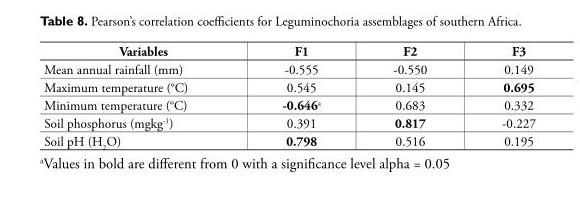table: (43, 42, 535, 151)
table column: (43, 42, 234, 151), (234, 42, 356, 151), (356, 42, 463, 151), (463, 42, 535, 151)
table column header: (43, 42, 535, 59)
table row: (43, 131, 535, 151), (43, 59, 535, 78), (43, 78, 535, 96), (43, 96, 535, 114), (43, 42, 535, 59), (43, 114, 535, 131)
